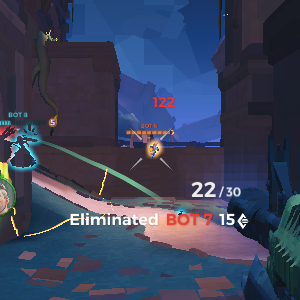model: (147, 139, 160, 158)
